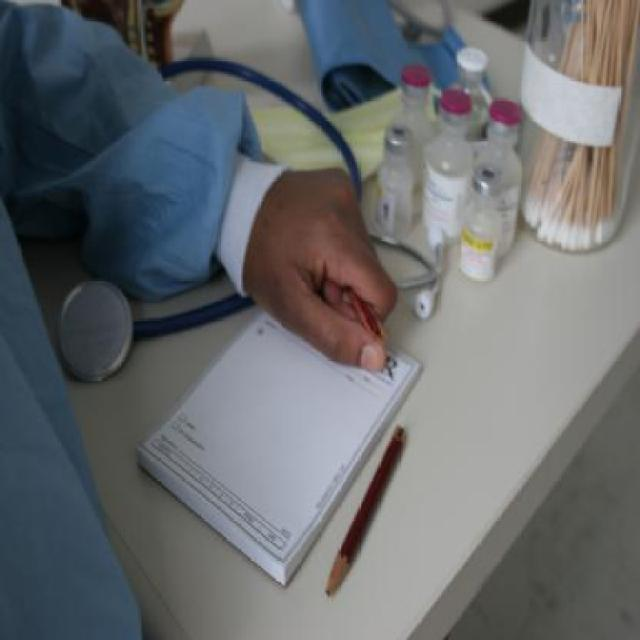Person: (0, 0, 398, 638)
